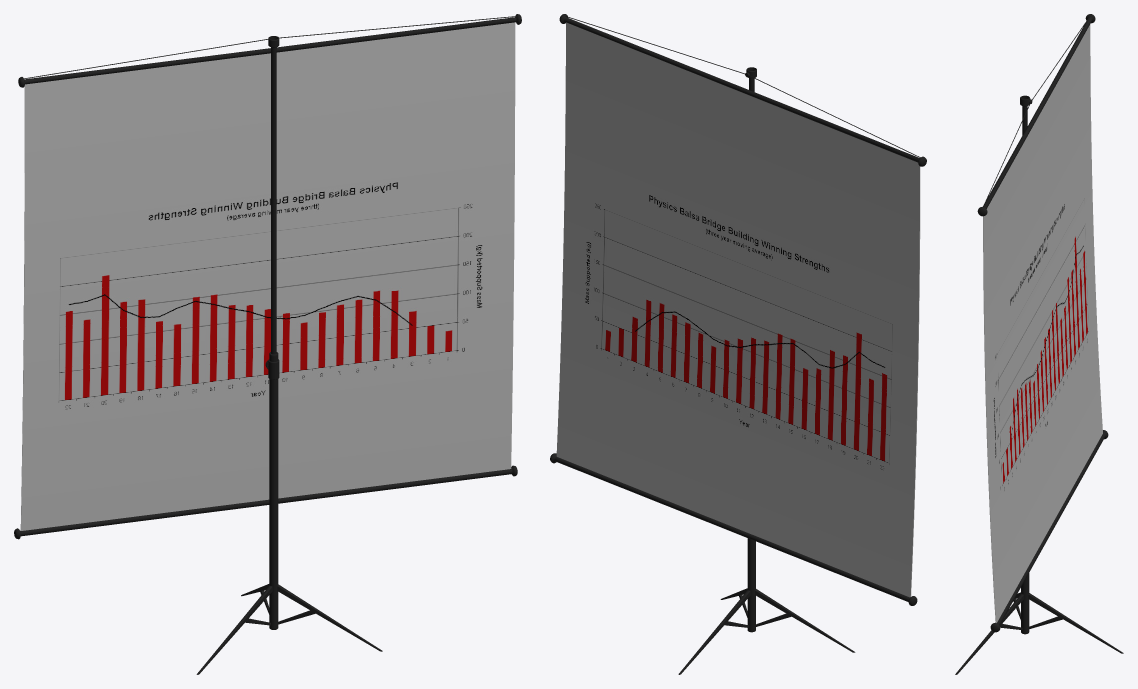
The model's file is exhibitor.FBX.
3 renders of one model, left to right at view 1: azimuth 30°, elevation 25°; view 2: azimuth 150°, elevation 25°; view 3: azimuth 270°, elevation 25°, orthographic. The views are drawn at different scales.
Visible parts, largest first — view 1: exhibitor; view 2: exhibitor; view 3: exhibitor.
Part boxes in pixels (x1=…): exhibitor: x1=14, y1=14, x2=521, y2=674; exhibitor: x1=550, y1=14, x2=926, y2=674; exhibitor: x1=955, y1=14, x2=1123, y2=674.
Size of the model in its own units: 2010 by 728 by 2597.
2 materials, 1 textured.
